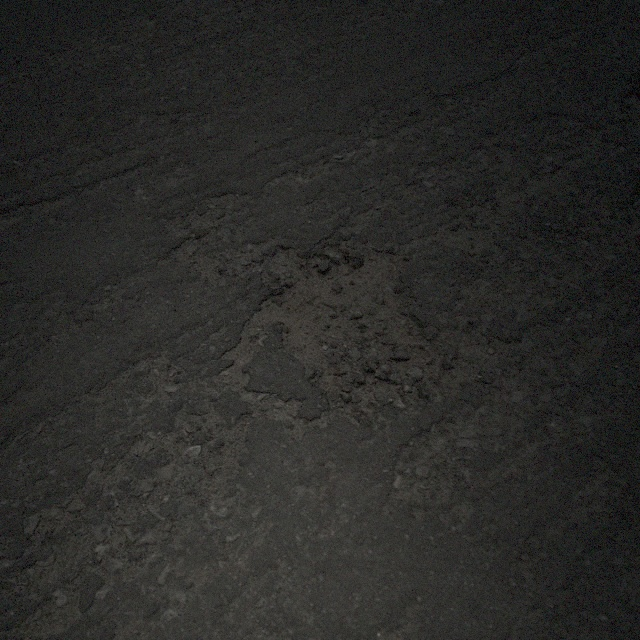pothole: (242, 234, 441, 415)
